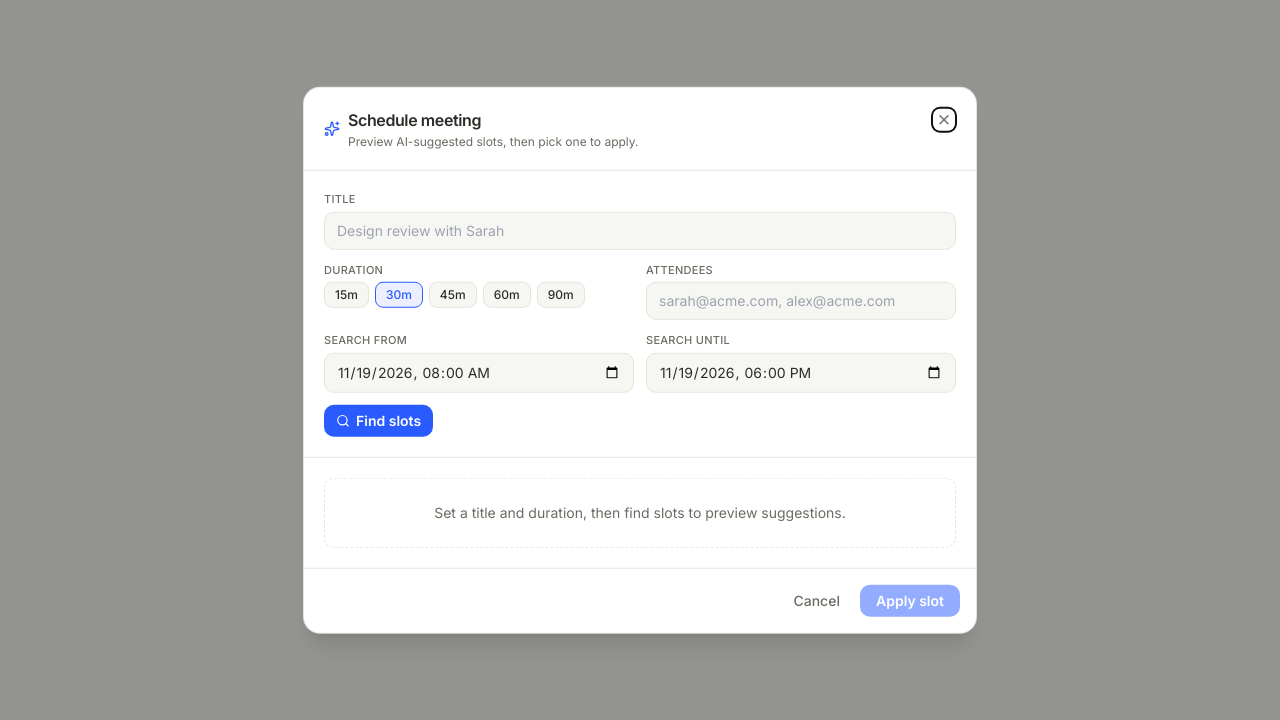
it: PAC-133 AC-27: unknown attendees in the Suggest a time modal › names every unknown attendee as one whose availability could not be checked
The image size is (1280, 720).
Type "Sync" into the field labelled "Title".
click(640, 230); type("Sync")  # box left=324, top=211, right=956, bottom=249
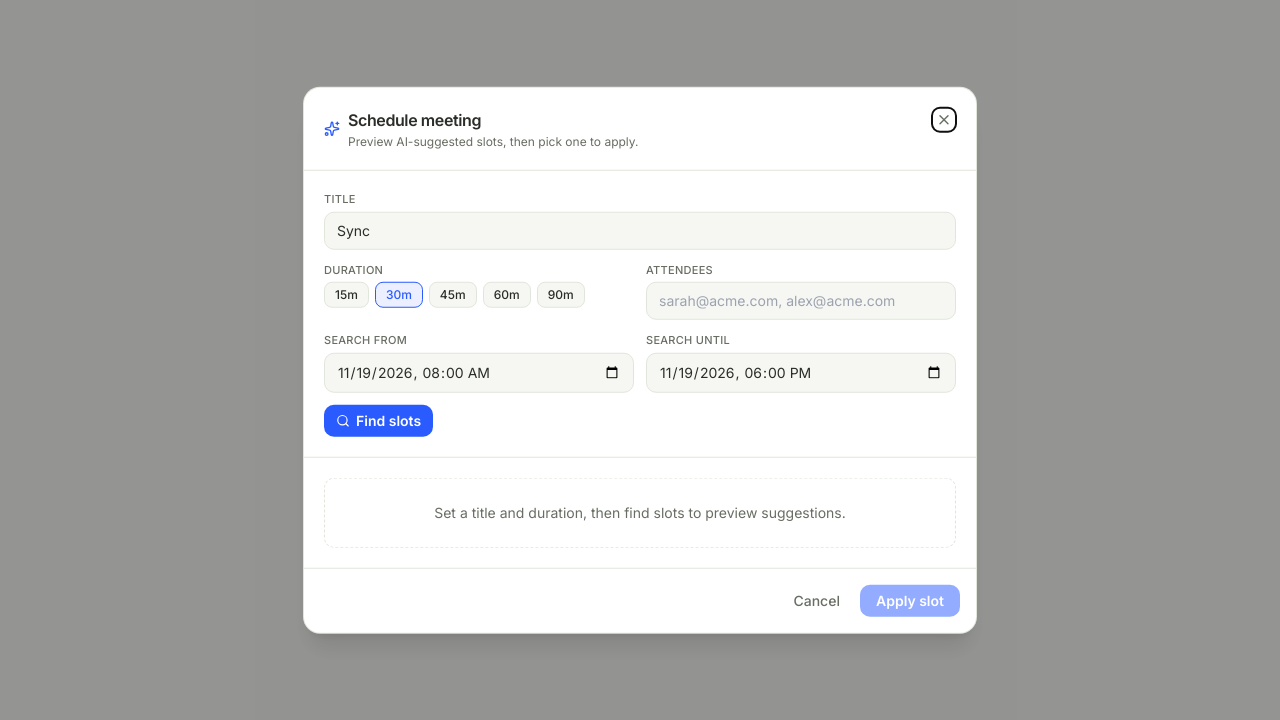
Type "bo@co.com, eve@gmail.com" into the field labelled "Attendees".
click(801, 301); type("bo@co.com, eve@gmail.com")  # box left=646, top=282, right=956, bottom=320
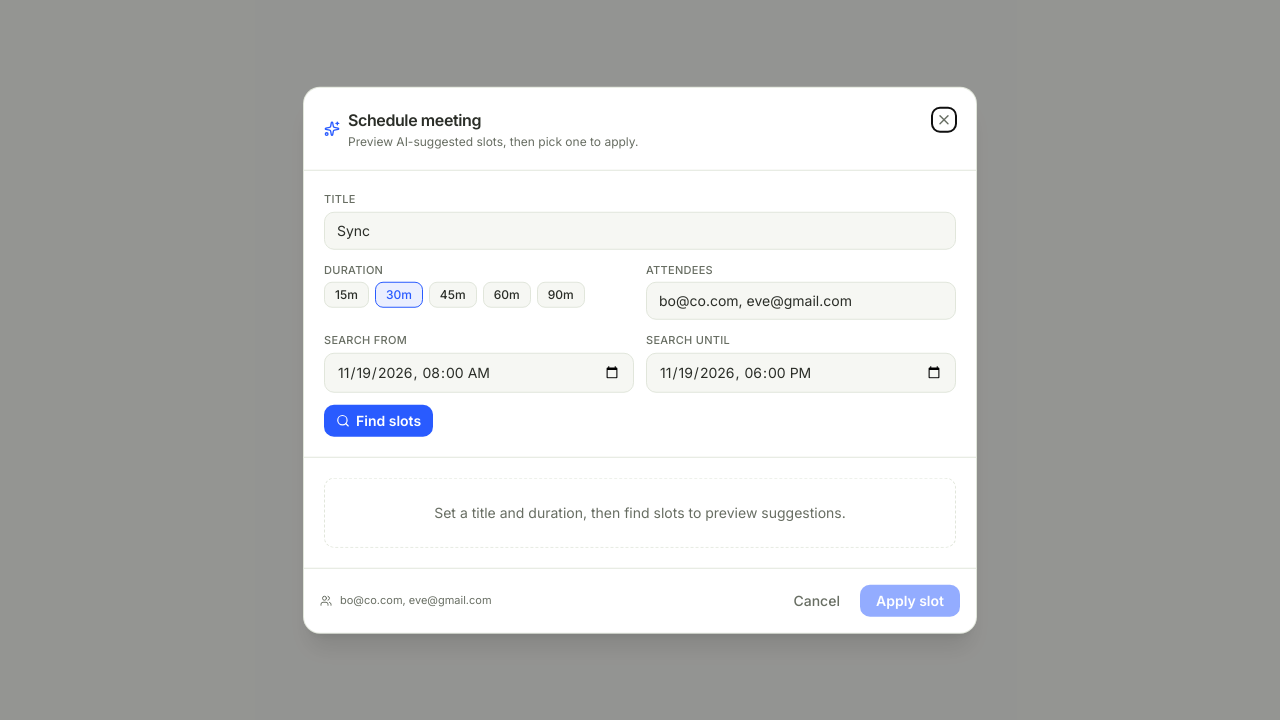
Click the button "Find slots".
click(379, 420)  # box left=324, top=404, right=433, bottom=436
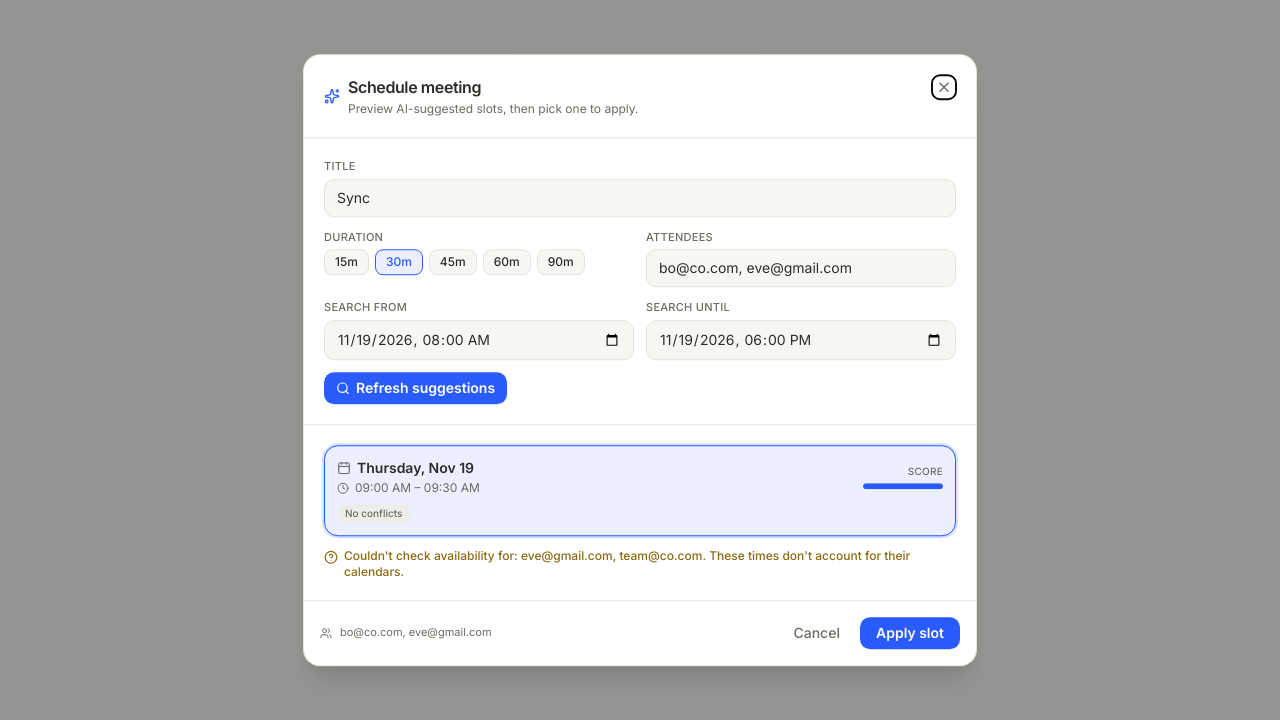
Expected: the button "Refresh suggestions" is shown, left=324, top=372, right=507, bottom=404
Expected: the element with test id "schedule-suggest-unknown-attendees" shows "Couldn't check availability for: eve@gmail.com, team@co.com.", left=324, top=544, right=956, bottom=580
Expected: the element with test id "schedule-suggest-unknown-attendees" shows "These times don't account for their calendars.", left=344, top=548, right=910, bottom=579
